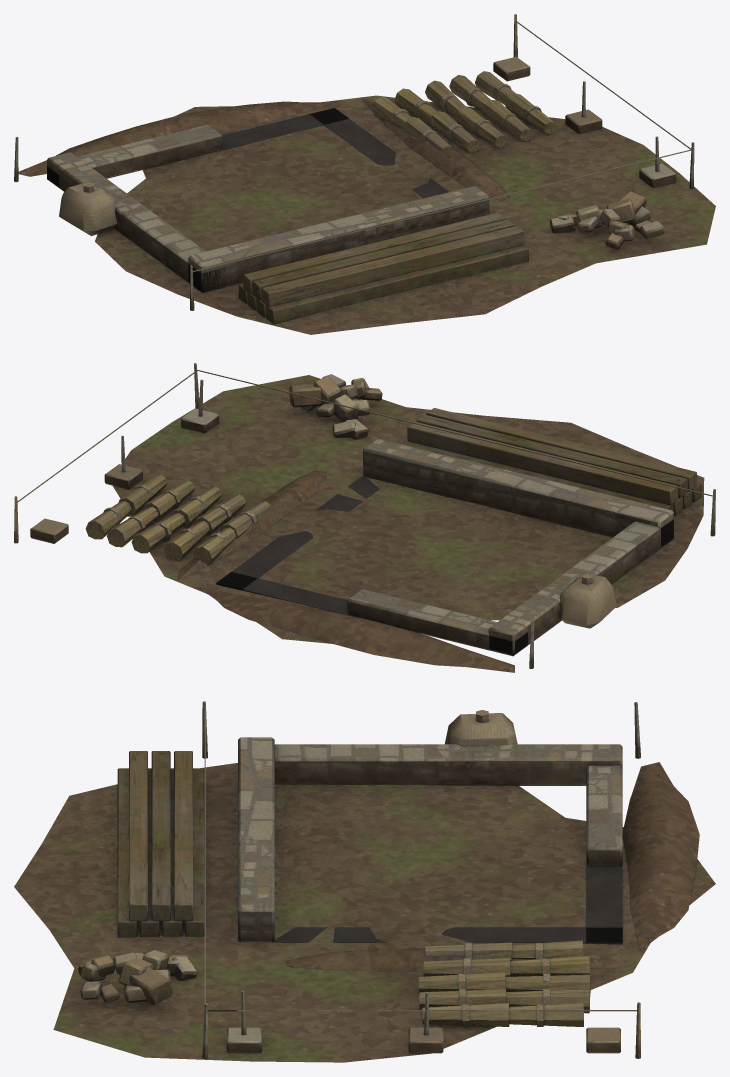
The model's file is weaver_build1.glb.
3 views of the same model, one above another, from view 1: azimuth 30°, elevation 25°; view 2: azimuth 150°, elevation 25°; view 3: azimuth 270°, elevation 25° (orthographic). The views are drawn at different scales.
Visible parts, largest first — view 1: weaver_build1_LOD0; view 2: weaver_build1_LOD0; view 3: weaver_build1_LOD0.
Part boxes in pixels (left/top/right/bottom): weaver_build1_LOD0: left=14, top=14, right=715, bottom=334; weaver_build1_LOD0: left=14, top=363, right=715, bottom=672; weaver_build1_LOD0: left=14, top=701, right=715, bottom=1062.
Size of what is drawn, in the model's own units: 8.53 by 0.7009 by 8.11.
1 material, 1 textured.
